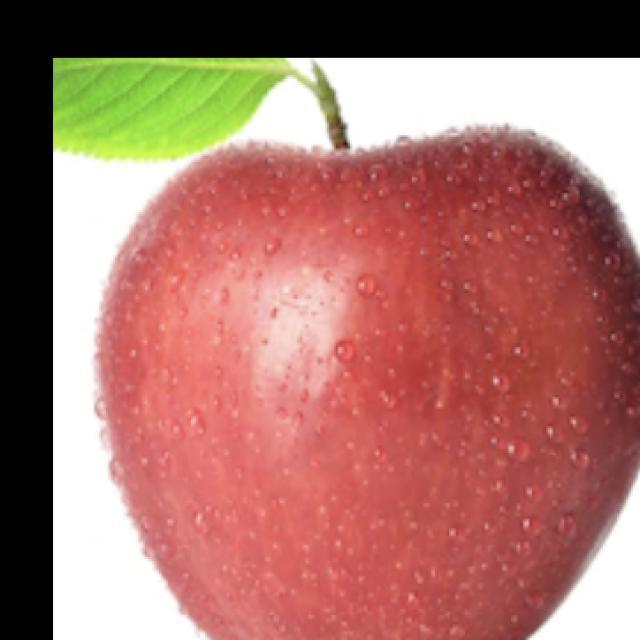Fresh Apple: (94, 110, 640, 640)
